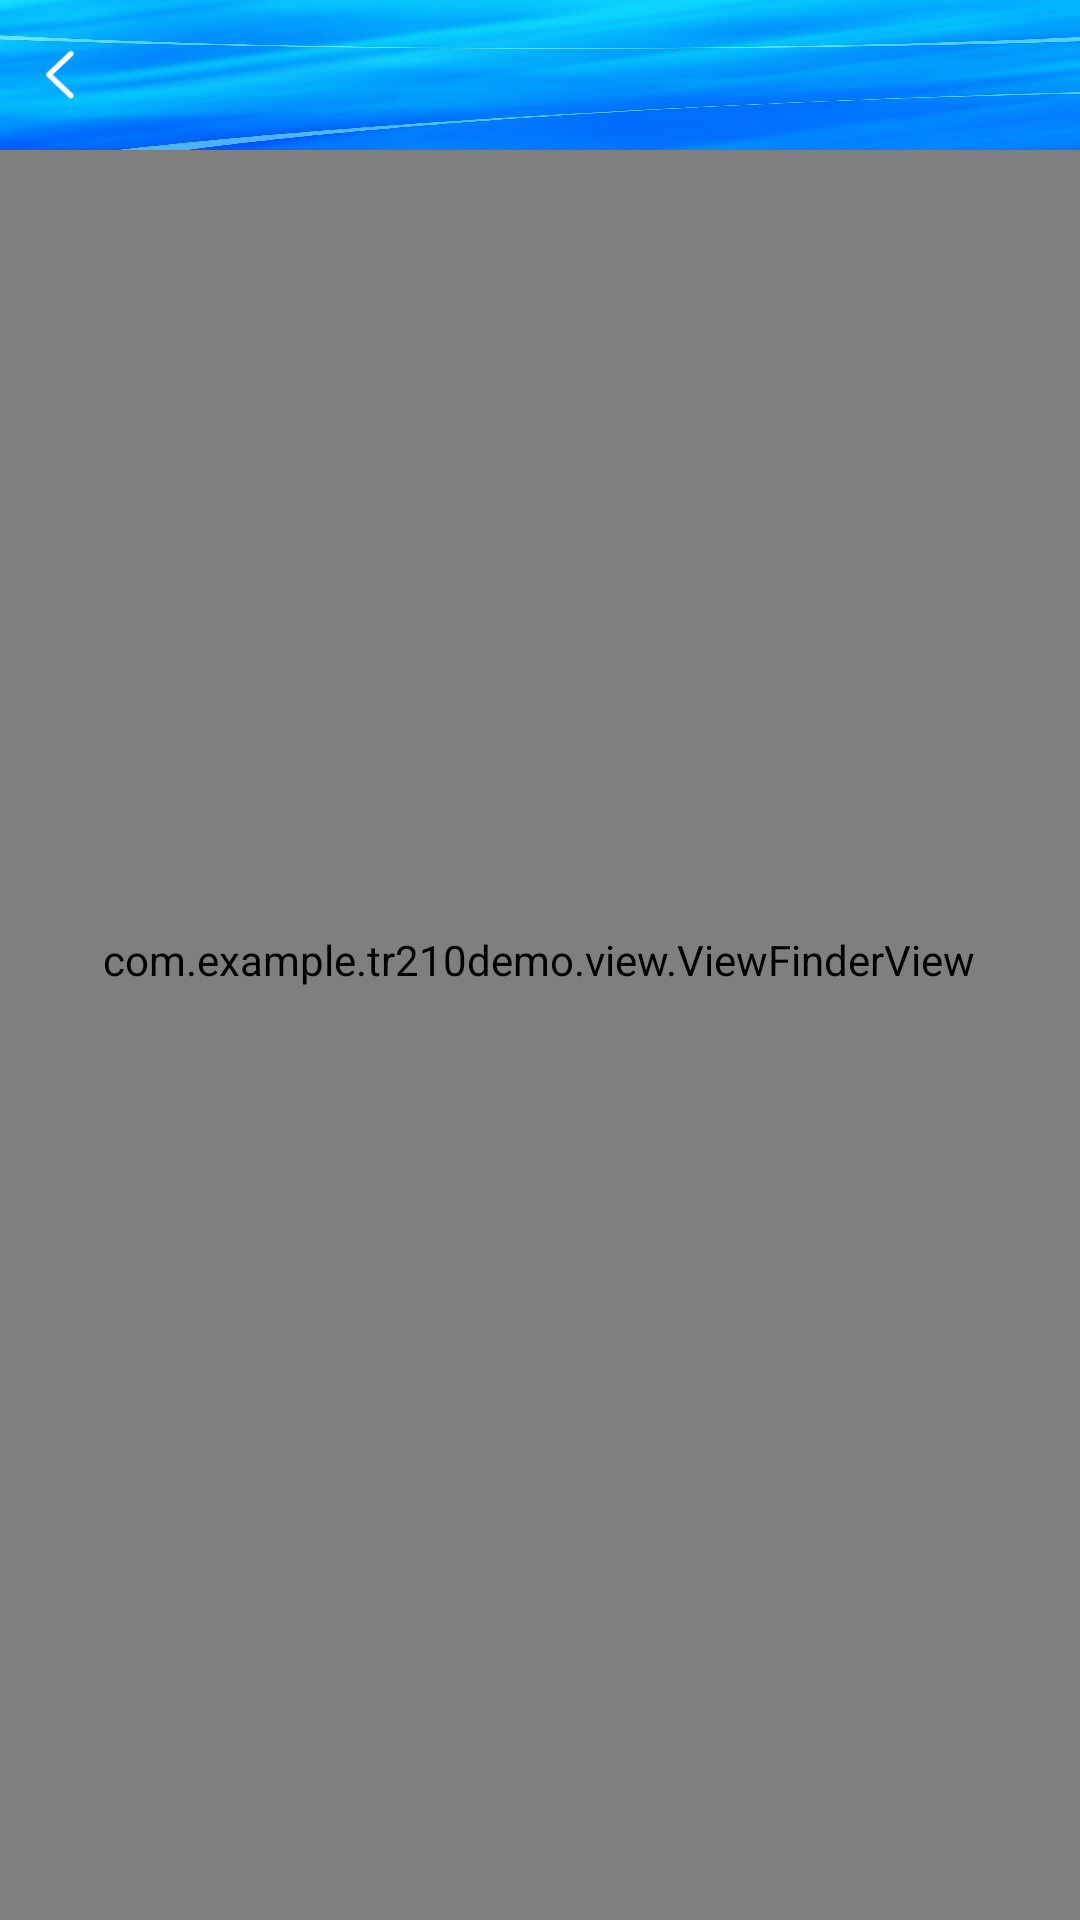

Icon click points for this 1080px×1920px phone screenshot, format [x,y]:
back: [60,75]
